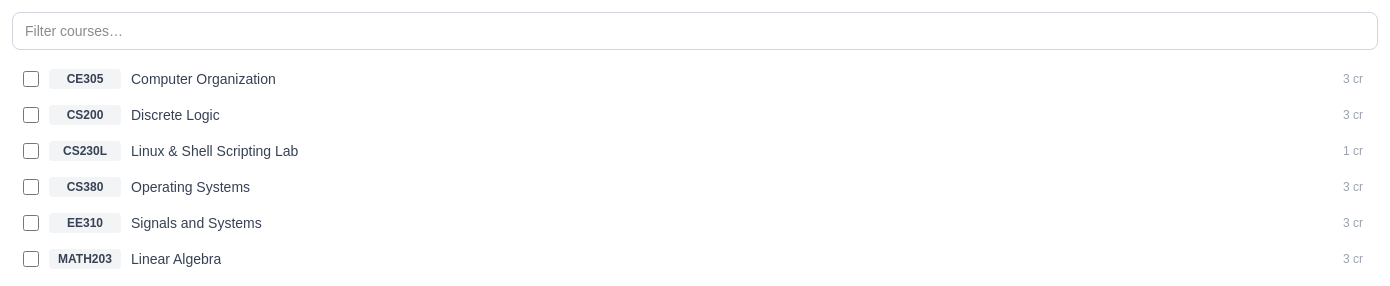
it: CompletedCourseList › explains that an unmatched course belongs to another degree
In the search field named "Filter courses by code or title": (695, 31) [12,12,1378,50], type "CS483"
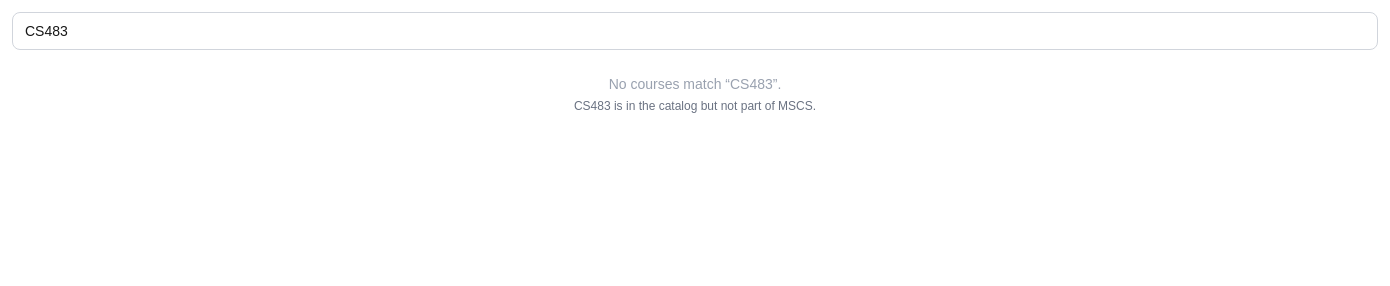
Result: the text "No courses match “CS483”." is shown at [609,76,781,92]
Result: the text "CS483 is in the catalog but not part of MSCS." is shown at [574,99,816,113]
